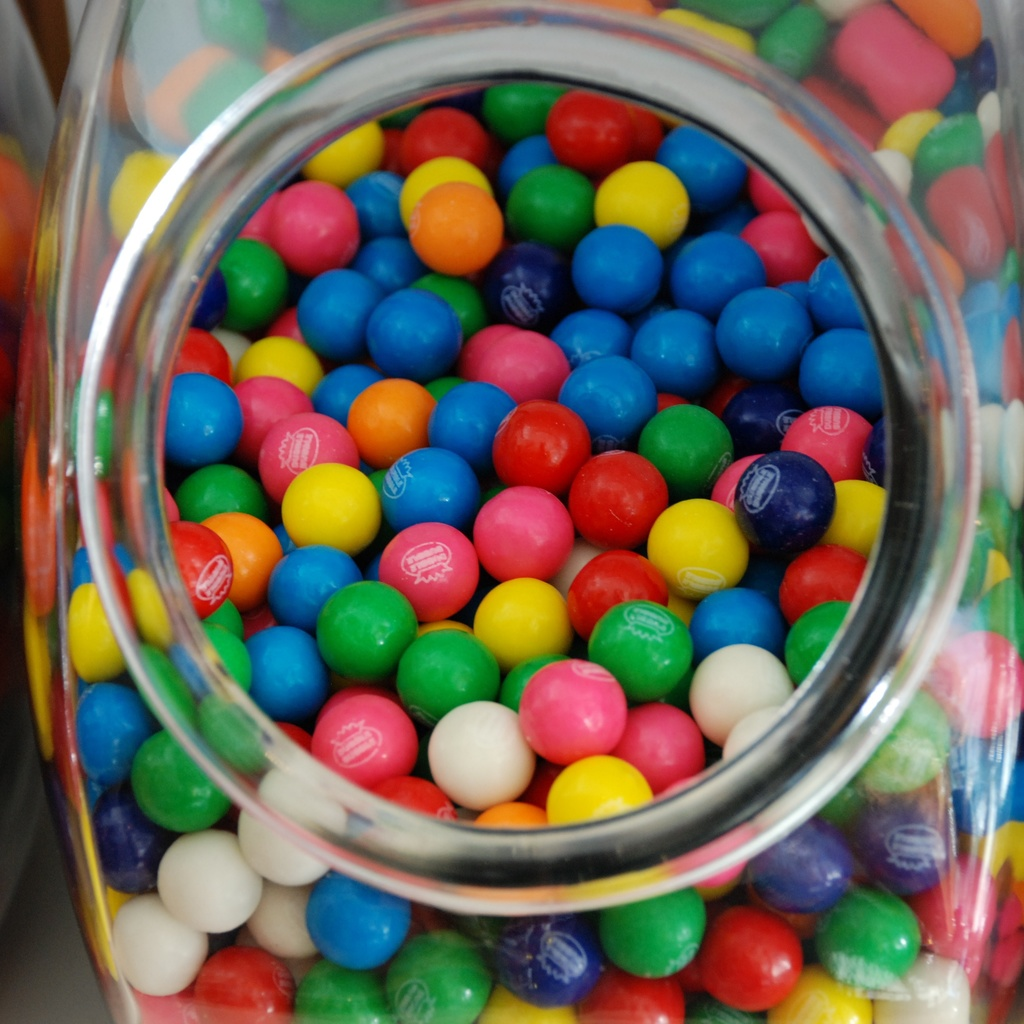Ball: (0, 1, 1023, 1023)
